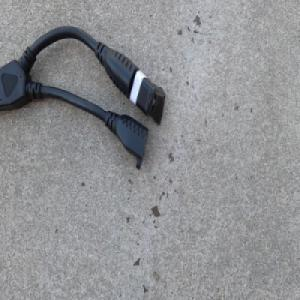Wire: (0, 24, 166, 170)
